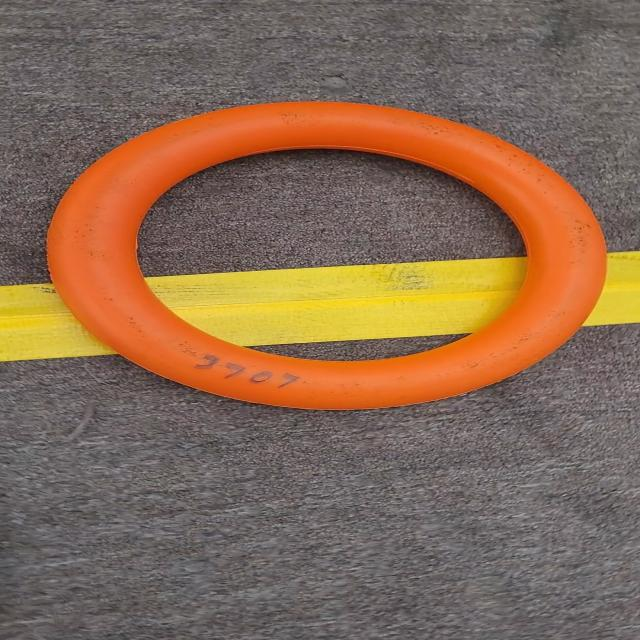note: (40, 94, 612, 418)
